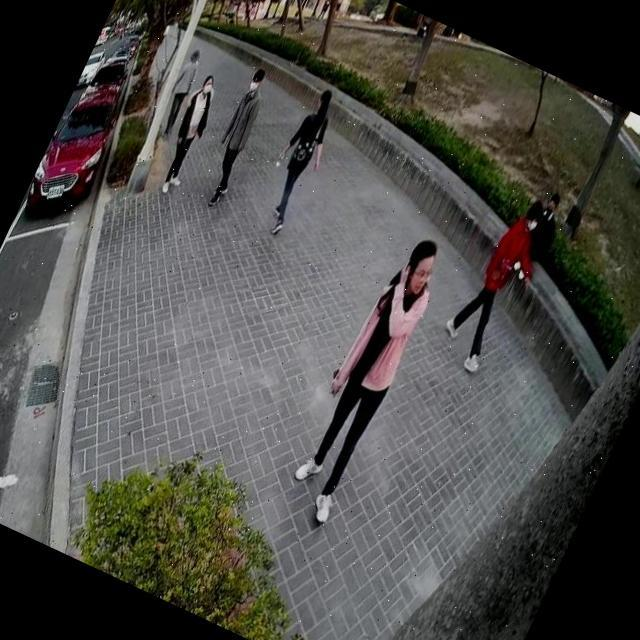person: (272, 218, 460, 532), (430, 182, 568, 382), (248, 78, 356, 240), (193, 61, 286, 212), (146, 62, 233, 200), (148, 40, 213, 143), (510, 184, 576, 284)
